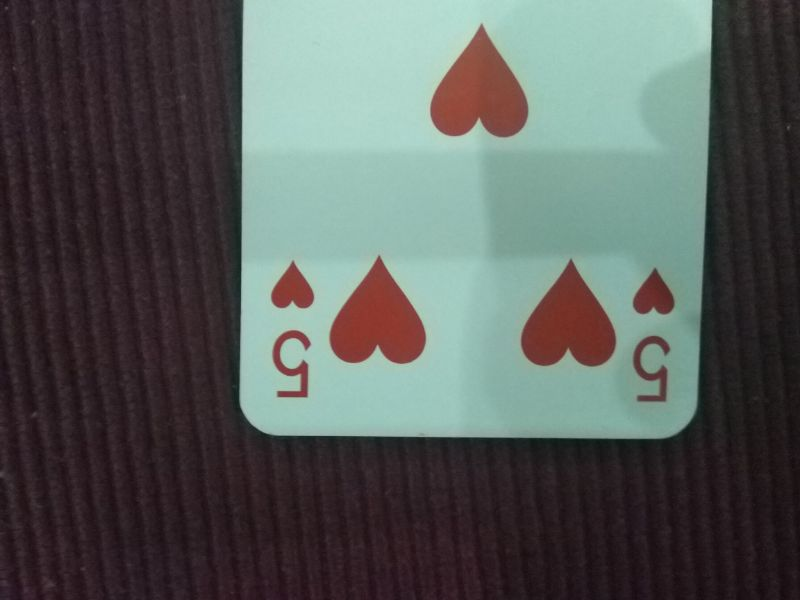5h: (262, 256, 319, 403), (625, 262, 679, 407)
